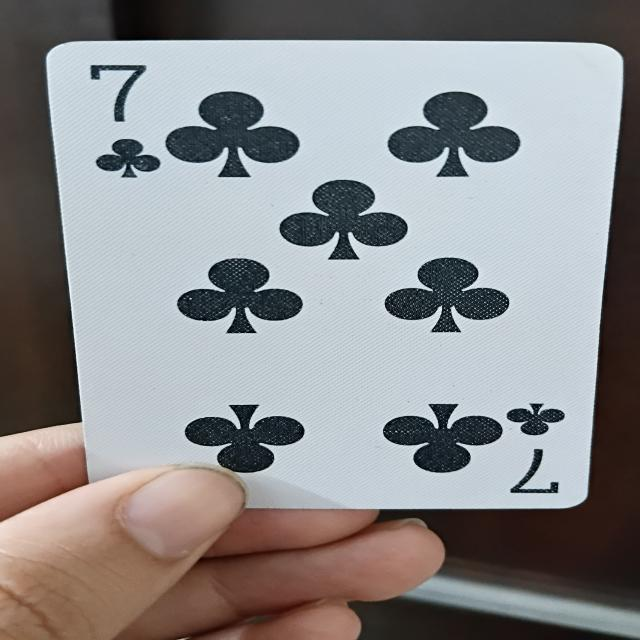7C: (41, 35, 616, 520)
